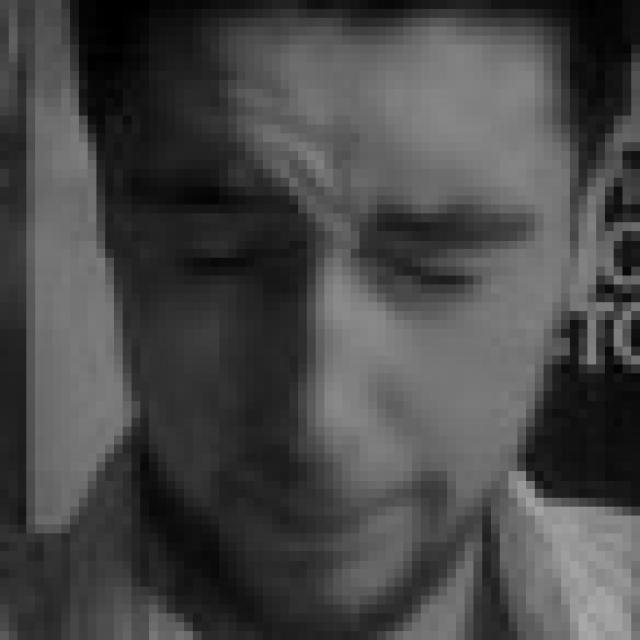real: (82, 14, 558, 585), (168, 175, 530, 314)
